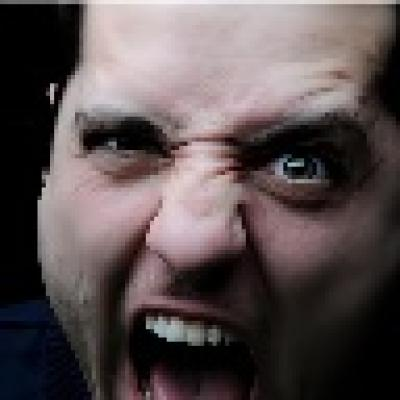angry: (46, 12, 396, 400)
